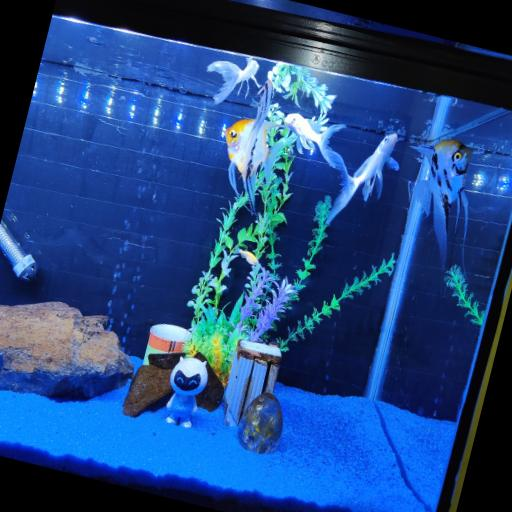Fish: (410, 140, 472, 269), (225, 80, 282, 213), (325, 133, 398, 224), (225, 119, 281, 212), (284, 113, 344, 163), (206, 57, 258, 104), (236, 249, 257, 265)
